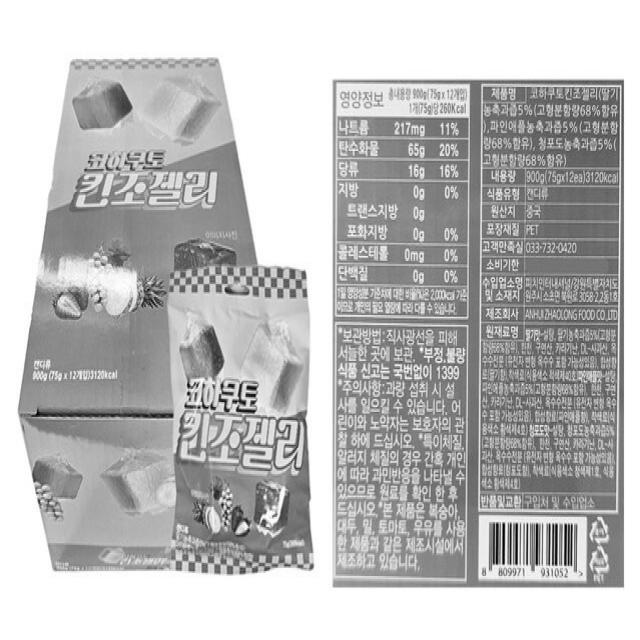Nutrition Label: (335, 81, 470, 330)
